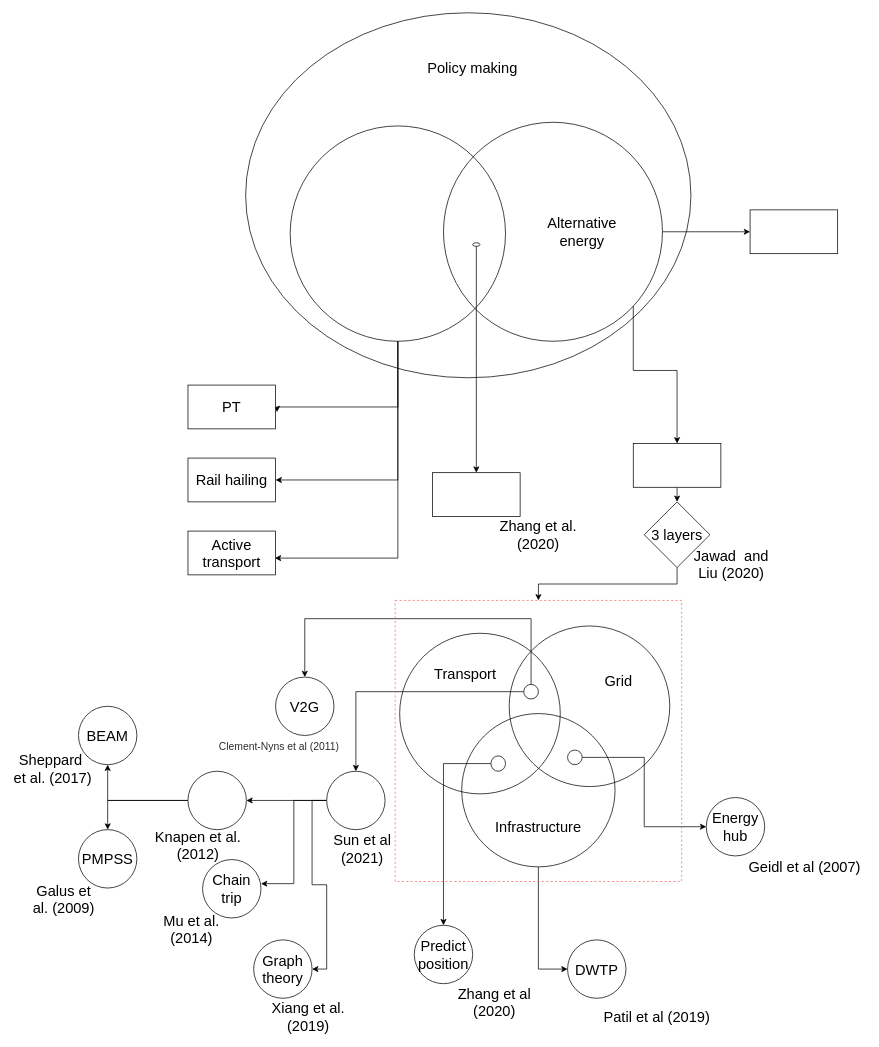
This 879x1047 diagram has some shape labels left out. The box of each missing label's shape, as (x1, y1, x2, y2) in pixels:
ABM: (187, 771, 246, 830)
AEV: (432, 472, 520, 516)
bio fuels: (749, 209, 838, 254)
electrification: (633, 443, 721, 487)
Energy demand: (326, 771, 385, 830)
Vehicles reduction: (289, 125, 506, 341)
